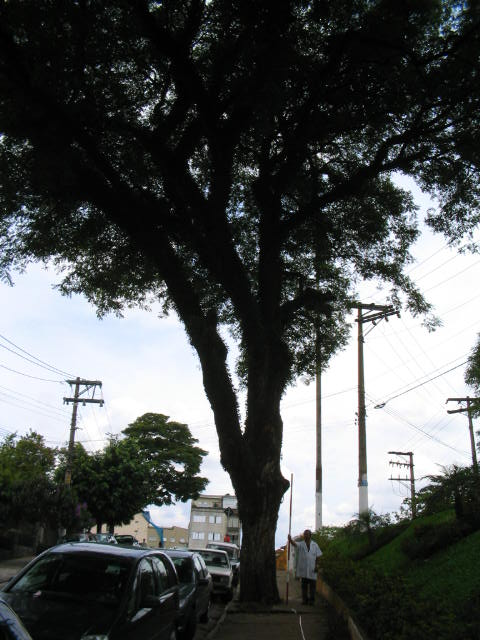crown: (5, 4, 478, 400)
stem: (211, 457, 283, 608)
stick: (279, 472, 301, 608)
tree: (3, 1, 480, 612)
